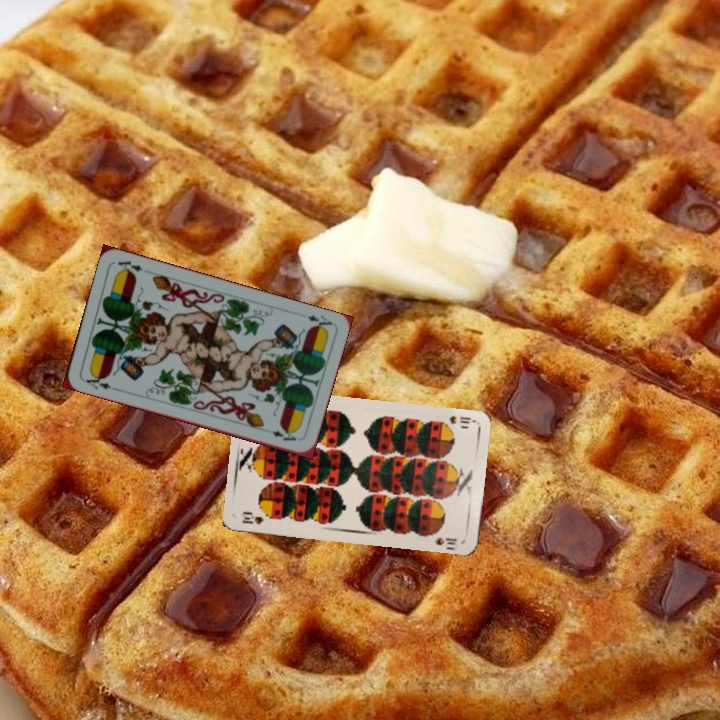EA: (82, 370, 119, 393), (303, 311, 335, 333)
S10: (435, 412, 476, 429), (237, 509, 267, 527)
